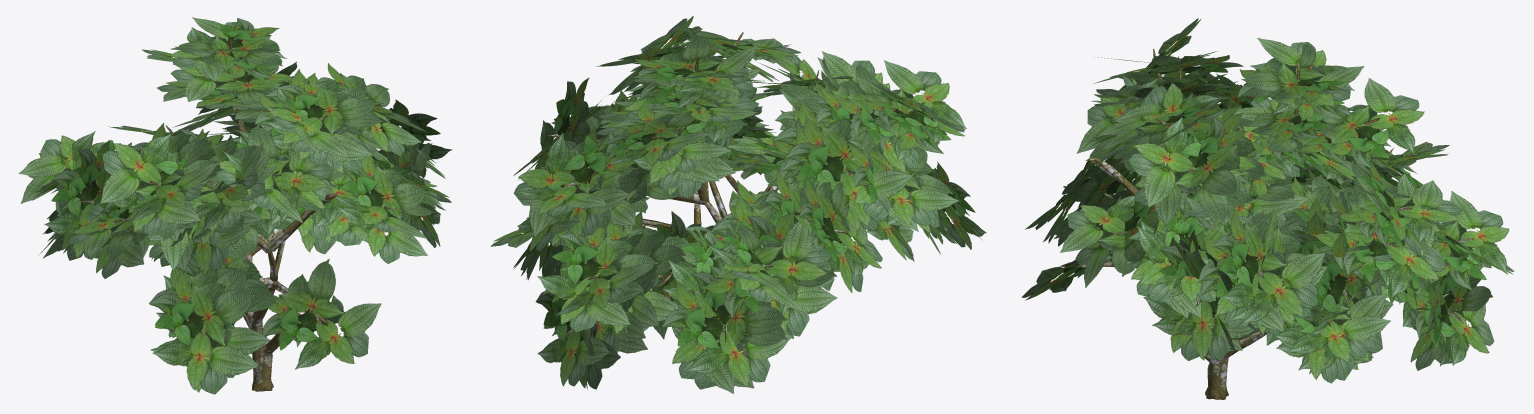
The model's file is bush_tree_05_B_-_copy_001.glb.
3 views of the same model, side by side, from view 1: azimuth 30°, elevation 25°; view 2: azimuth 150°, elevation 25°; view 3: azimuth 270°, elevation 25° (orthographic). The views are drawn at different scales.
Parts seen in each view (by area): view 1: bush_tree_05_B - copy.001; view 2: bush_tree_05_B - copy.001; view 3: bush_tree_05_B - copy.001.
Boxes of the visible parts, x1,y1,x2,y2 form: bush_tree_05_B - copy.001: (18, 17, 451, 394); bush_tree_05_B - copy.001: (490, 16, 986, 393); bush_tree_05_B - copy.001: (1021, 18, 1514, 399).
Bounding box in the file's own units: 0.9121 × 0.7358 × 0.9781.
Materials: 2 (2 with a texture image).
